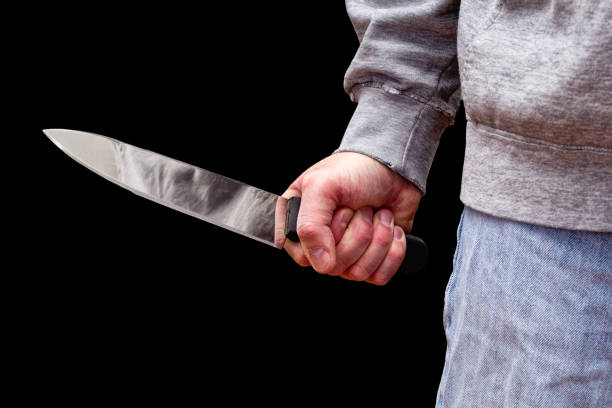knife: (38, 125, 433, 278)
